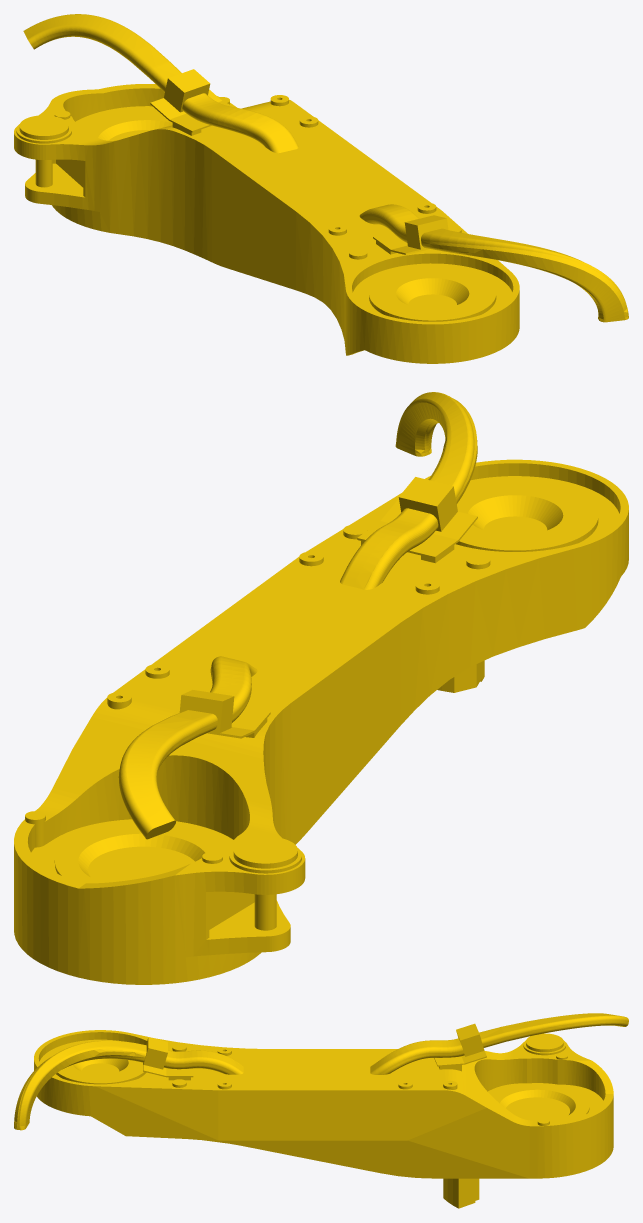
The picture shows the model from 3 angles, top to bottom: view 1: azimuth 30°, elevation 25°; view 2: azimuth 150°, elevation 25°; view 3: azimuth 270°, elevation 25°; orthographic projection. The views are drawn at different scales.
Parts seen in each view (by area): view 1: Node_0x7f98e9894f00; view 2: Node_0x7f98e9894f00; view 3: Node_0x7f98e9894f00.
Part boxes in pixels (x1,y1,x2,y2): Node_0x7f98e9894f00: (14, 14, 628, 363); Node_0x7f98e9894f00: (14, 392, 628, 984); Node_0x7f98e9894f00: (14, 1013, 628, 1208).
Size of the model in its own units: 0.5821 by 0.4247 by 1.51.
